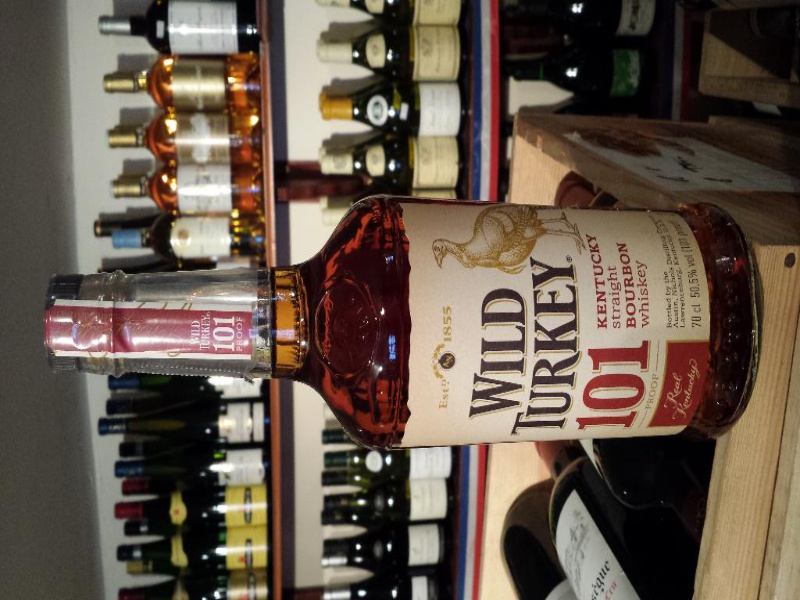wine: (77, 10, 769, 600), (44, 190, 773, 452)
